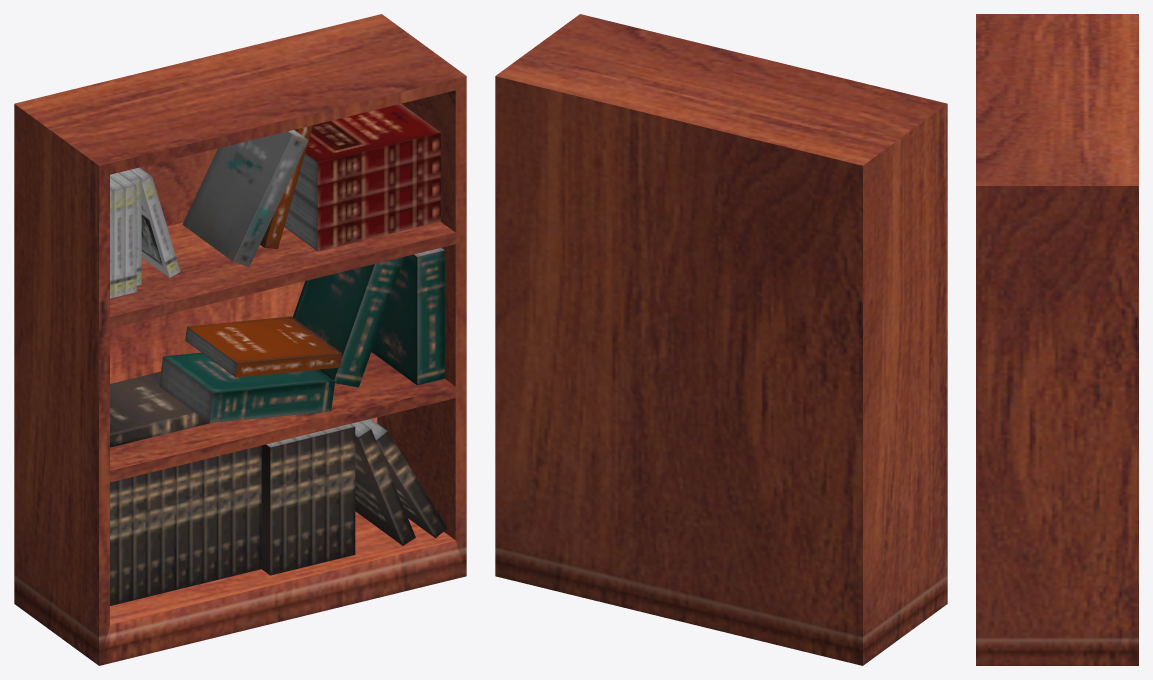
Rendered from medwoodbookshelf.fbx.
3 views of the same model, side by side, from view 1: azimuth 30°, elevation 25°; view 2: azimuth 150°, elevation 25°; view 3: azimuth 270°, elevation 25° (orthographic). The views are drawn at different scales.
Parts seen in each view (by area): view 1: mesh_0, mesh_1; view 2: mesh_0; view 3: mesh_0.
Part boxes in pixels (box(x1,y1,x2,y2)): mesh_0: box(14, 14, 466, 665); mesh_1: box(110, 167, 180, 298); mesh_0: box(495, 14, 947, 665); mesh_0: box(976, 14, 1138, 665).
Size of the model in its own units: 100 by 130 by 40.
1 material, 1 textured.
